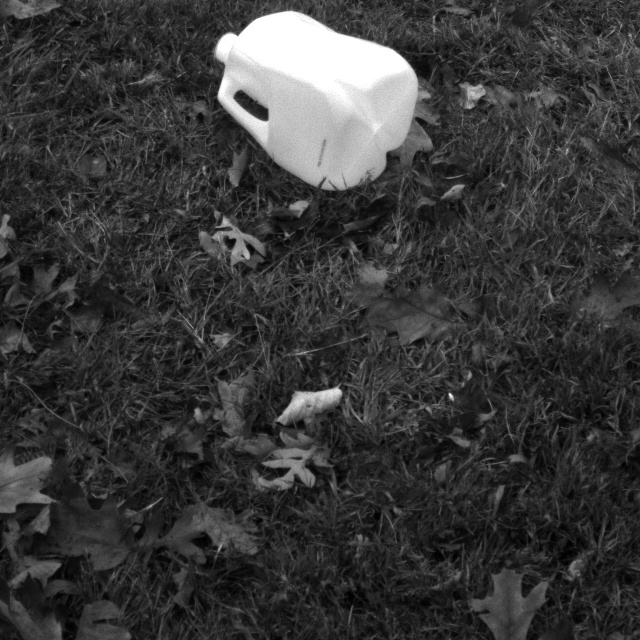can: (202, 3, 421, 208)
